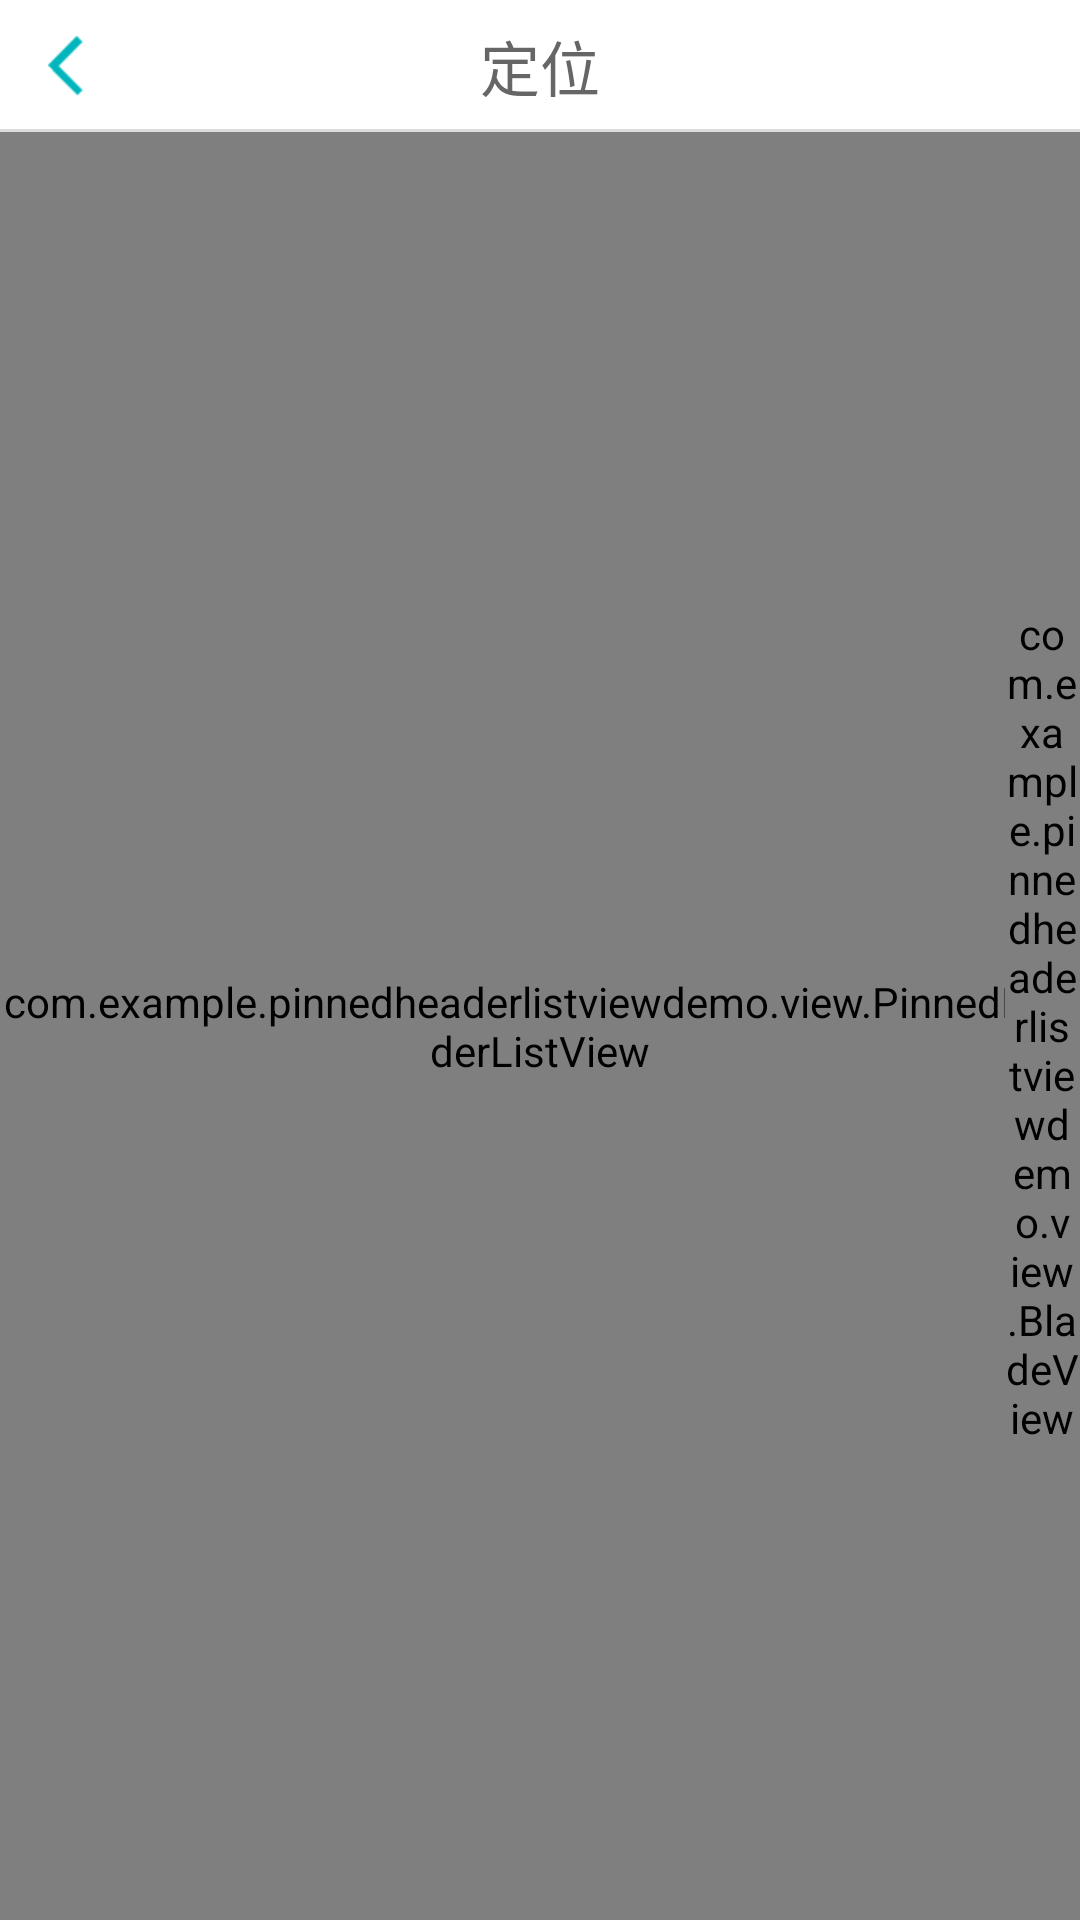

Icons on this 1080*1920 Android screen, each with its box as (x1, y1, x2, y2):
location back: (48, 36, 83, 96)
